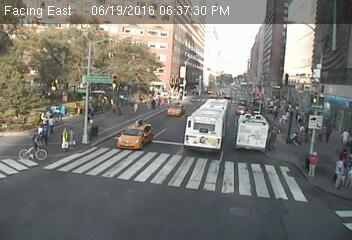neg: (21, 126, 49, 164), (227, 171, 247, 197), (212, 133, 226, 151)
pos: (302, 150, 326, 182), (322, 120, 340, 144), (149, 96, 160, 111)
